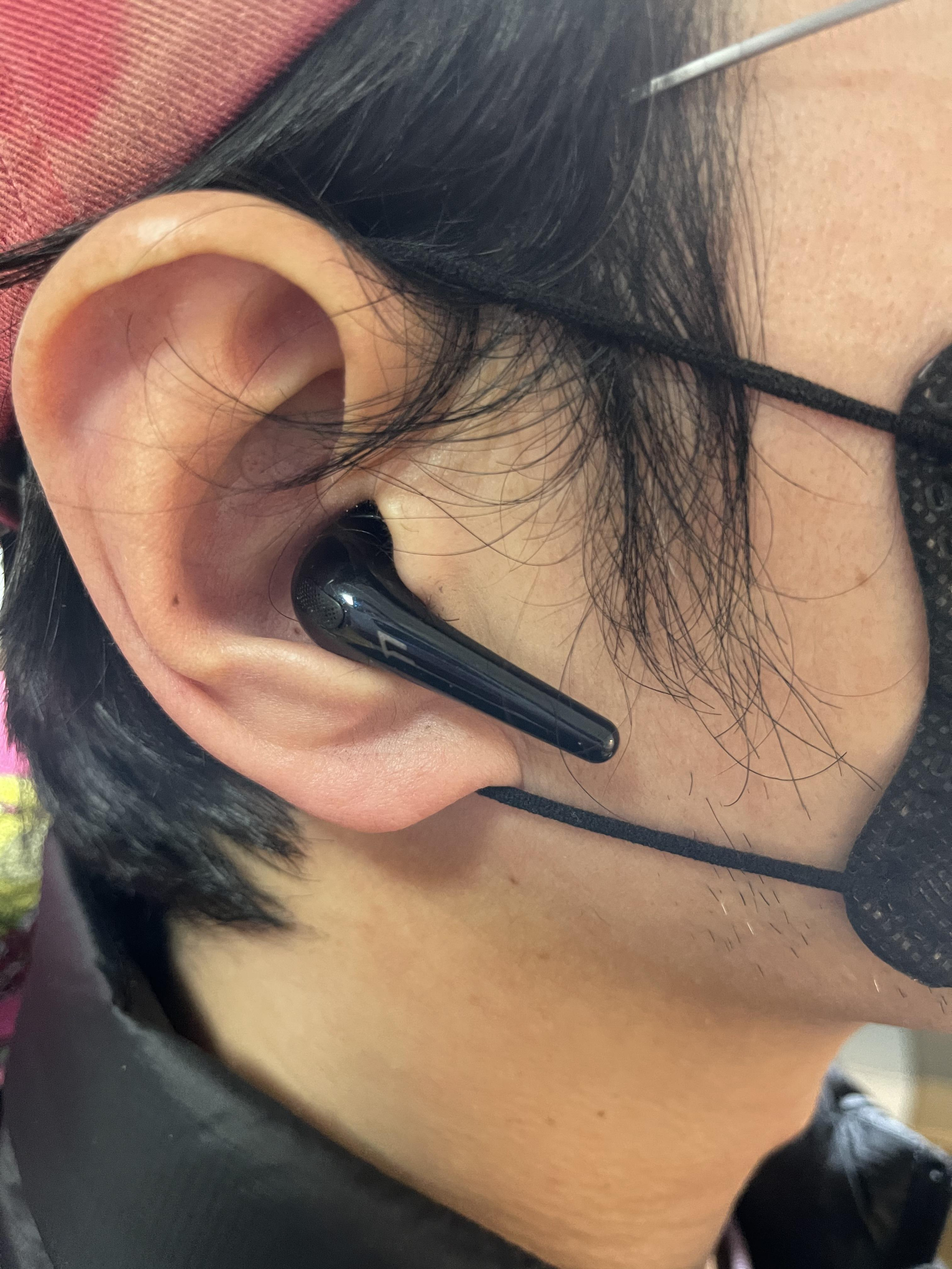earphone: (258, 493, 634, 765)
